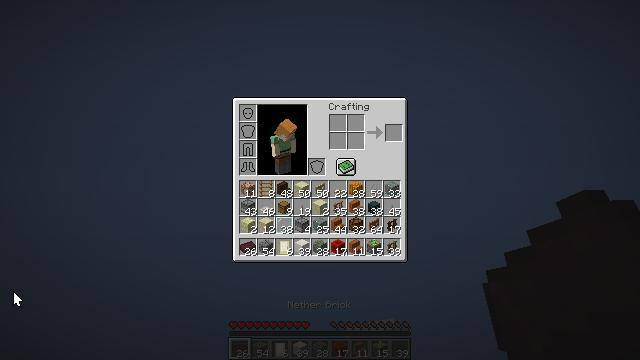cursor: (13, 291, 23, 307)
